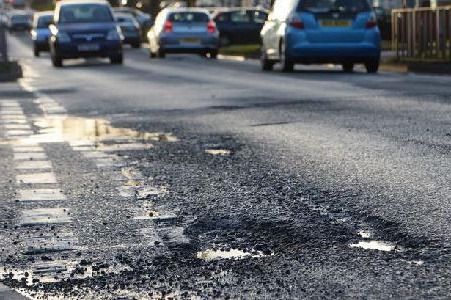pothole: (184, 219, 290, 262), (337, 209, 423, 253), (204, 145, 234, 157)
